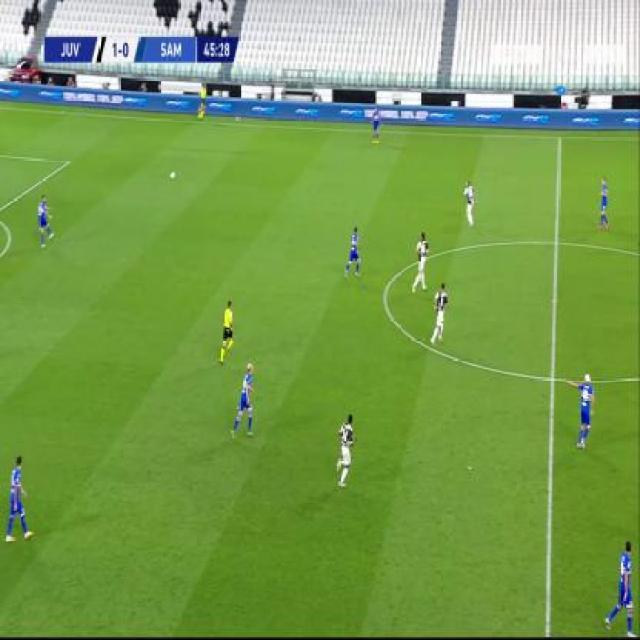ball: (169, 169, 177, 180)
player: (604, 537, 637, 634), (4, 452, 32, 546), (232, 361, 257, 440), (335, 411, 357, 490), (573, 370, 595, 449), (430, 282, 449, 345), (411, 231, 430, 294), (219, 297, 236, 363), (35, 192, 54, 249), (343, 224, 362, 280), (596, 174, 610, 231), (462, 178, 478, 227), (370, 106, 383, 146), (197, 80, 208, 122)
